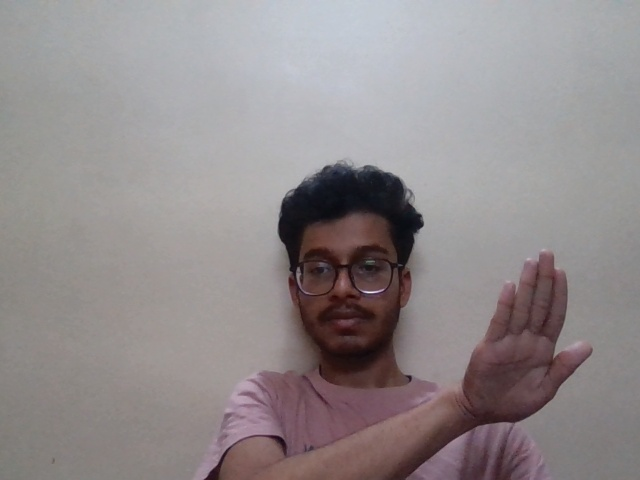hello: (459, 246, 592, 422)
